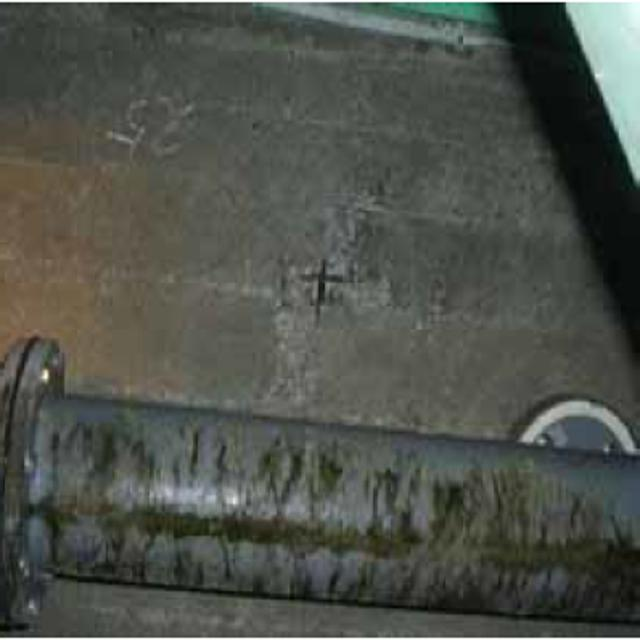spalling: (257, 202, 383, 412)
